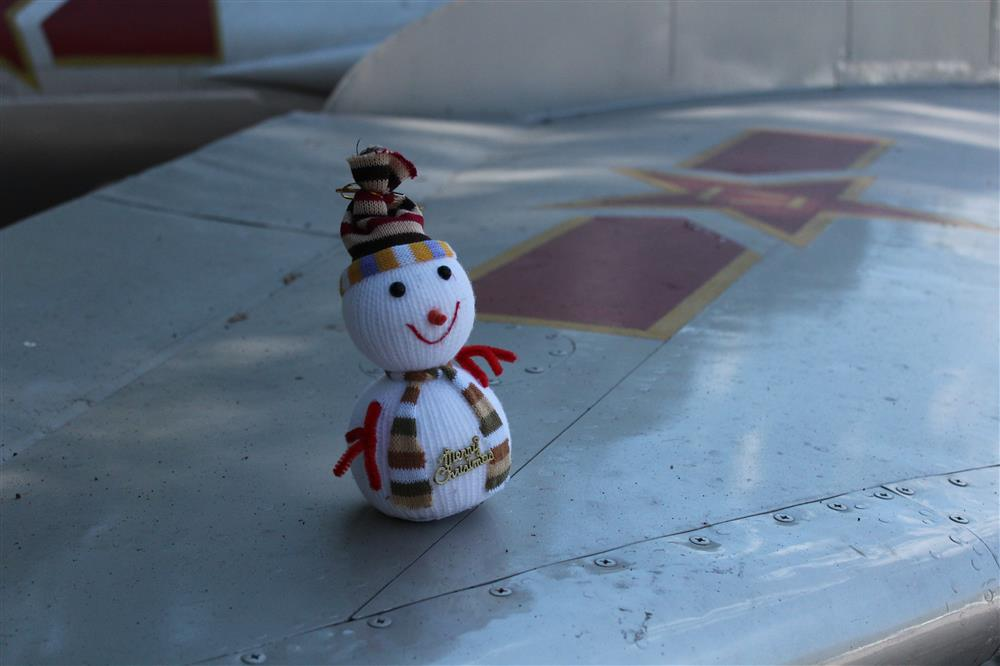toy_snowman: (331, 140, 522, 522)
